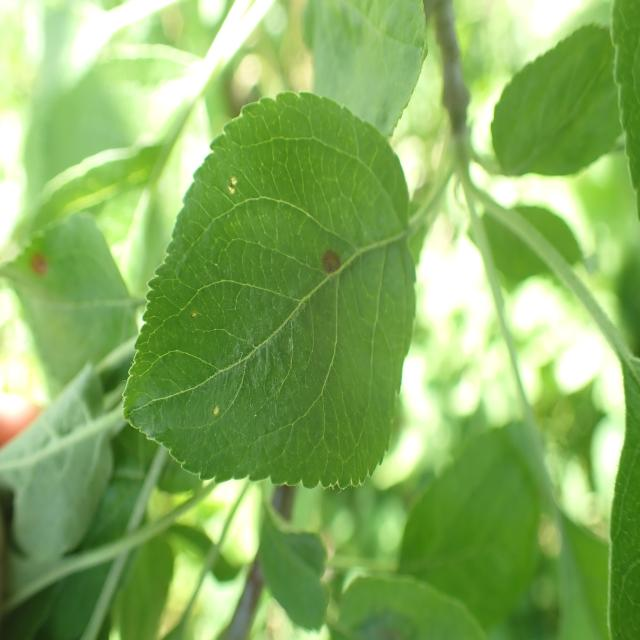Black Rot: (314, 237, 348, 290)
